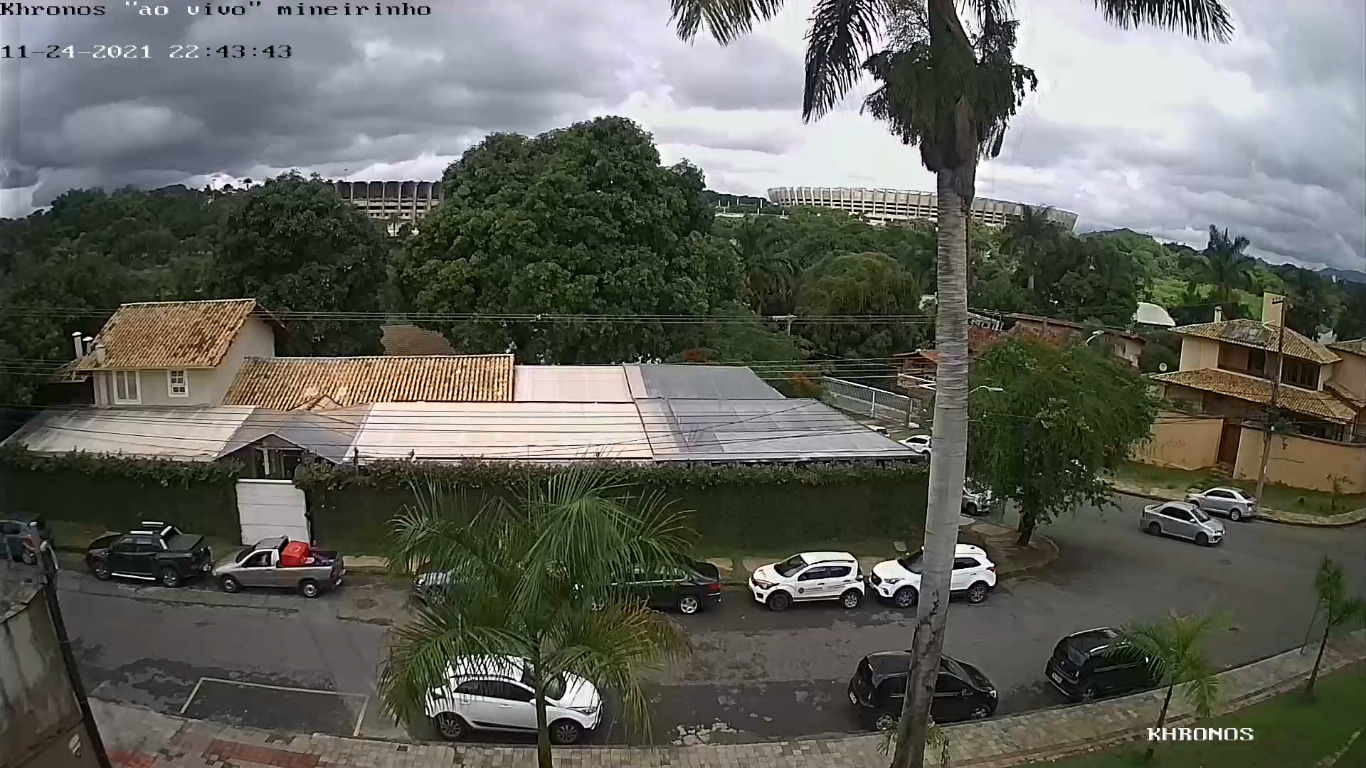car: (422, 650, 603, 747), (847, 648, 998, 732), (1043, 624, 1167, 706), (209, 535, 345, 600), (88, 520, 212, 590), (868, 542, 998, 608), (746, 550, 865, 612), (1141, 499, 1226, 546), (1185, 483, 1257, 523)
